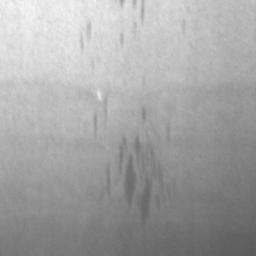Inclusion: (124, 156, 138, 205), (141, 183, 154, 223)
